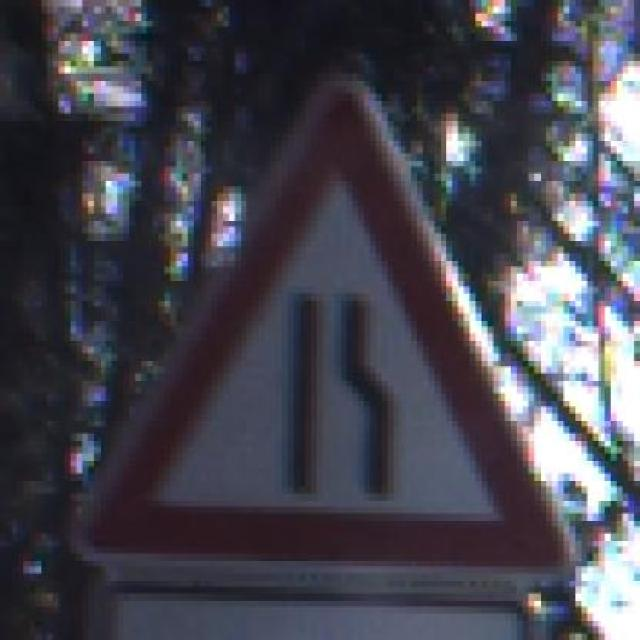-Road narrows on right: (64, 33, 593, 607)
